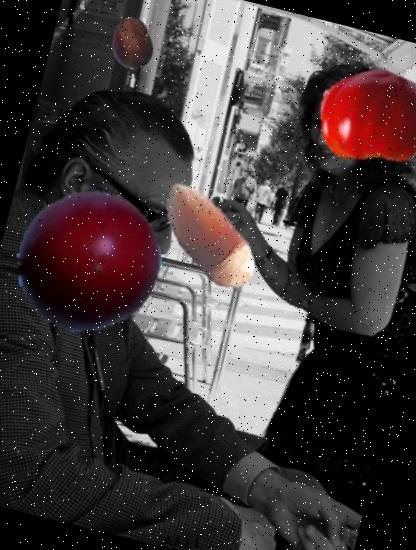Chestnut: (100, 12, 164, 76)
Hazelnut: (132, 160, 284, 314)
Tamarillo: (2, 174, 177, 350)
Tomato: (304, 46, 416, 196)
